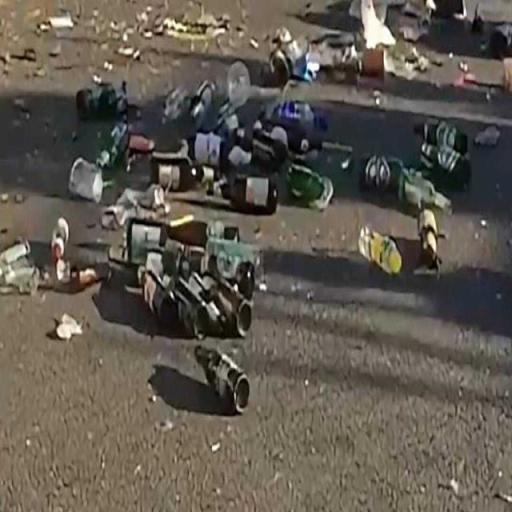glass: (184, 324, 266, 423), (185, 258, 253, 337), (120, 216, 210, 264), (142, 262, 191, 333), (204, 231, 258, 291), (162, 78, 218, 128), (268, 30, 316, 86), (394, 164, 450, 210), (215, 174, 279, 214), (419, 119, 467, 172), (148, 154, 210, 194), (286, 161, 334, 209), (358, 226, 402, 276), (0, 239, 38, 295), (76, 80, 128, 120), (96, 120, 130, 173), (68, 157, 103, 204), (50, 216, 70, 283)
